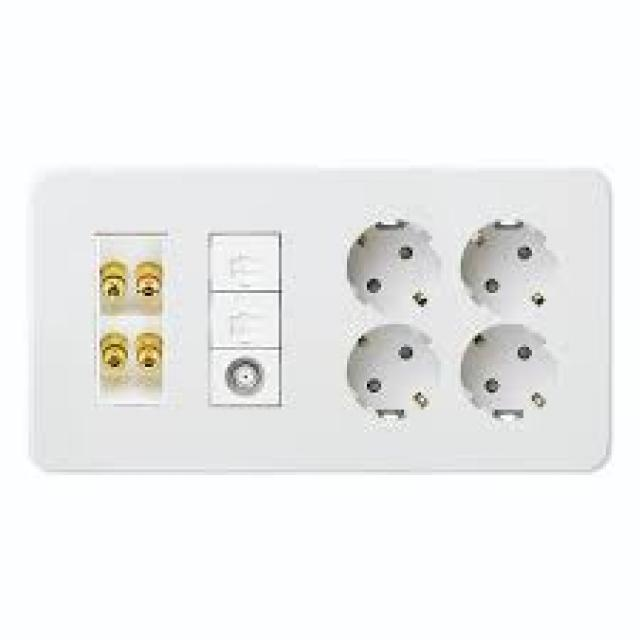typeb: (452, 207, 574, 313)
